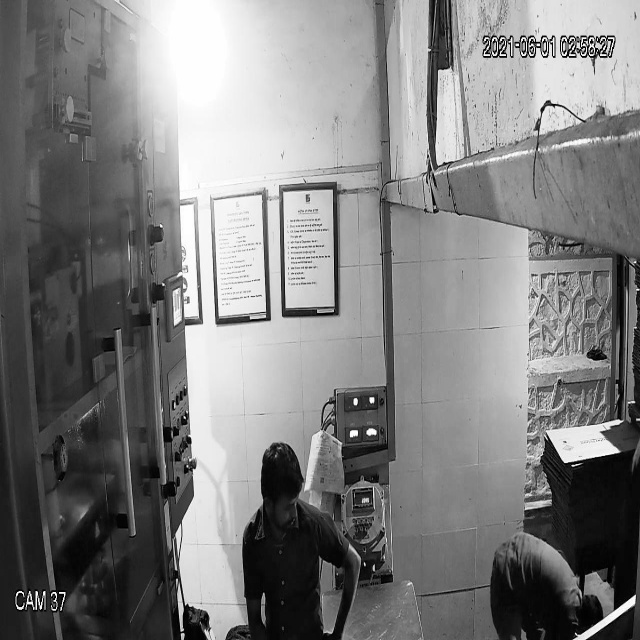Sin_gafas: (256, 488, 304, 520)
